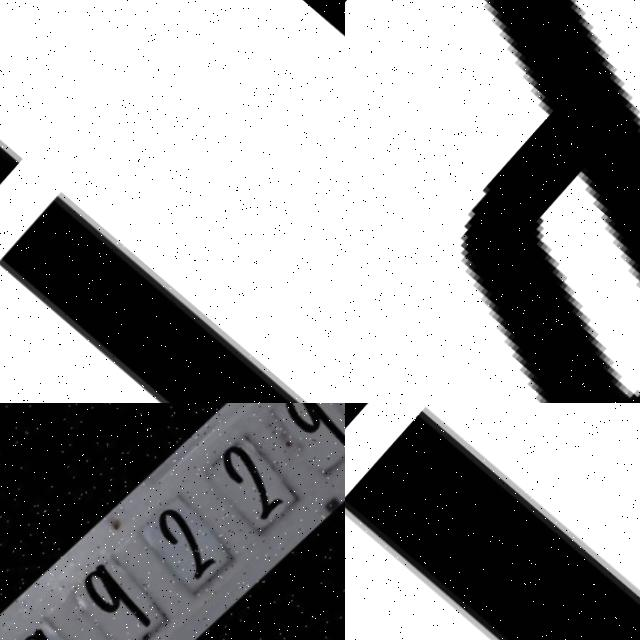2: (192, 429, 311, 538), (130, 490, 246, 596)
9: (58, 549, 179, 640), (259, 403, 345, 476), (0, 612, 117, 640)
D: (345, 0, 640, 403)
I: (0, 93, 345, 403)
U: (345, 403, 640, 640)
